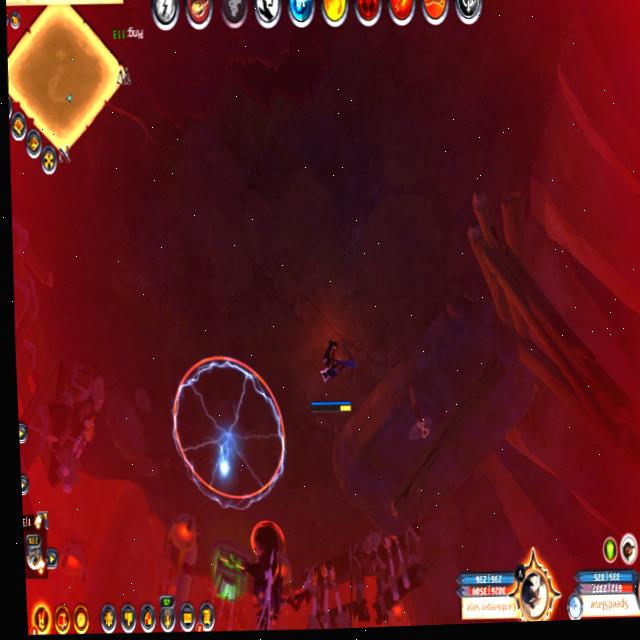ore: (241, 514, 295, 631)
red: (307, 335, 361, 417)
silver: (172, 356, 284, 508)
